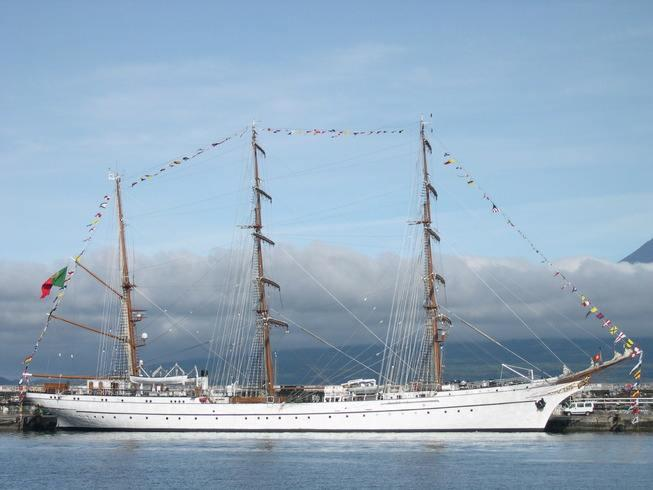fanchuan: (18, 109, 651, 433)
